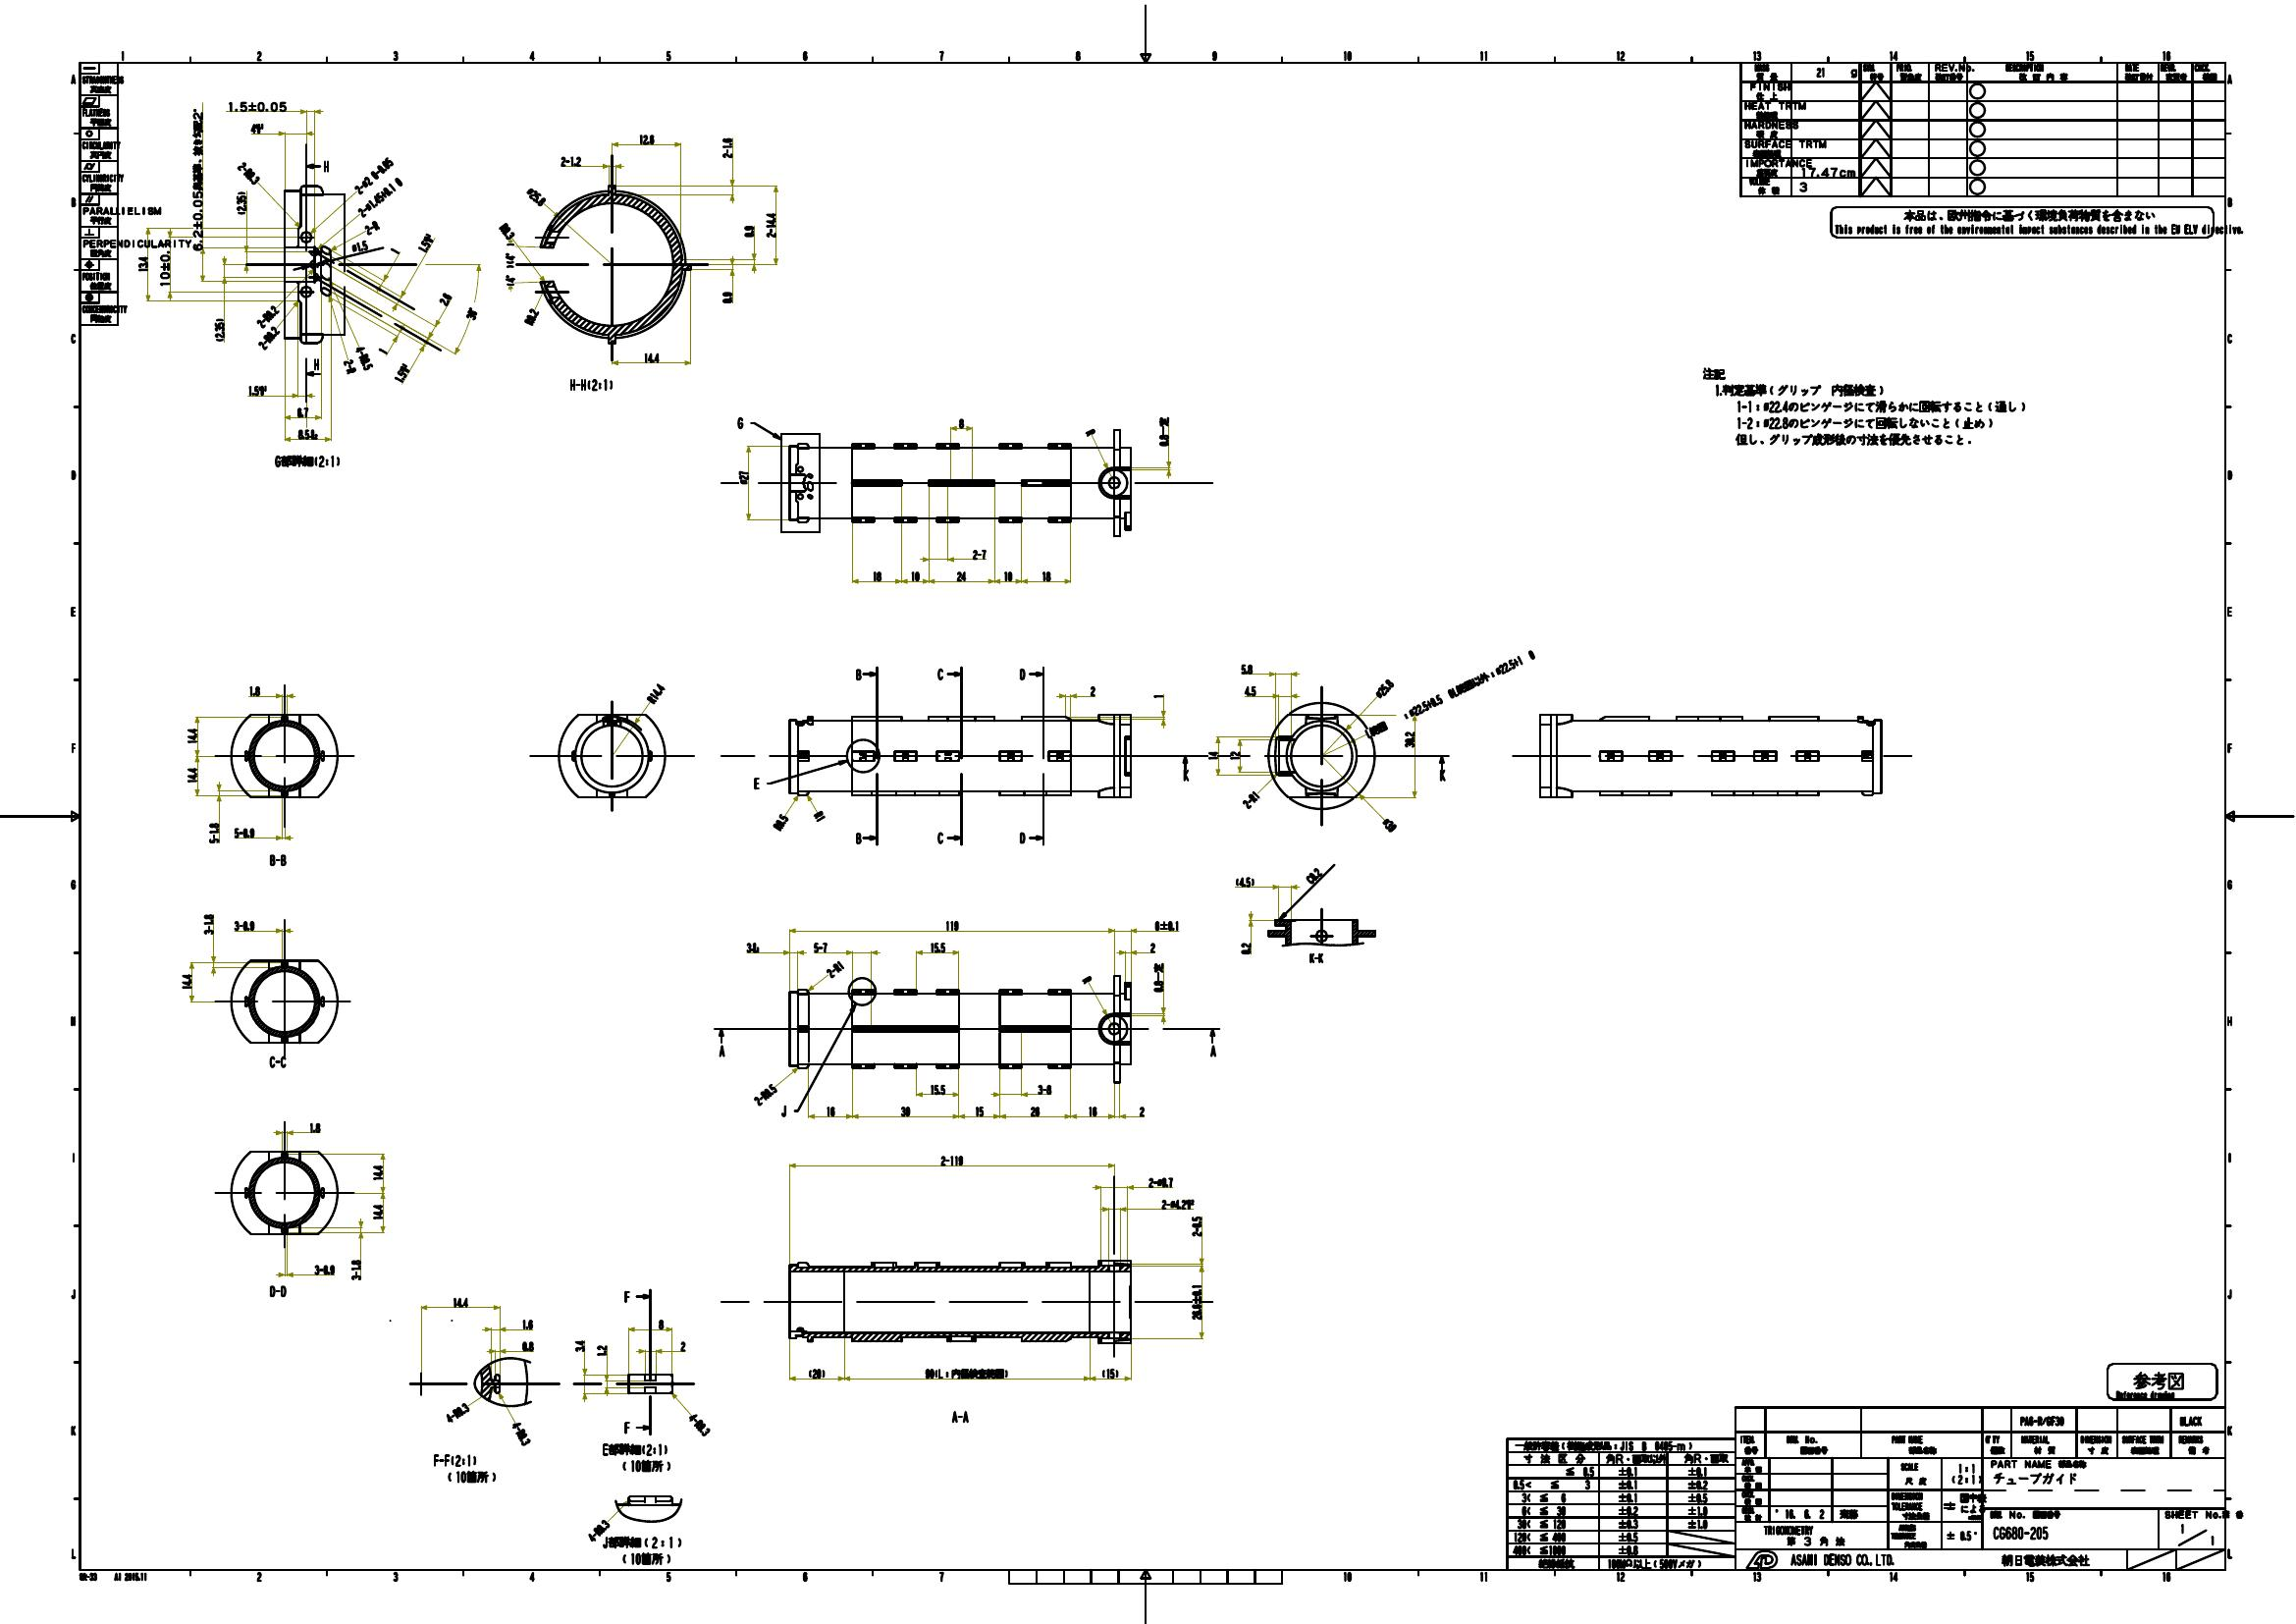anntotation_text: (1700, 366, 2027, 448), (1827, 204, 2245, 239), (2106, 1362, 2219, 1401), (272, 452, 341, 471), (603, 1534, 683, 1550), (601, 1441, 668, 1457), (620, 1457, 673, 1475), (566, 376, 613, 394), (446, 1468, 497, 1483), (77, 1571, 148, 1582), (432, 1452, 478, 1468), (617, 1552, 673, 1564), (267, 1281, 288, 1299), (265, 1053, 286, 1069), (269, 851, 286, 868), (950, 1410, 970, 1425), (1307, 951, 1325, 965), (1433, 766, 1448, 784), (935, 666, 945, 684), (750, 775, 762, 789), (935, 830, 945, 845), (852, 666, 863, 682), (1180, 768, 1191, 784), (715, 1042, 726, 1058), (311, 357, 321, 373), (320, 158, 330, 174), (622, 1288, 631, 1304), (854, 830, 863, 845), (622, 1420, 631, 1434), (1017, 830, 1026, 844), (1017, 666, 1026, 680), (1209, 1044, 1216, 1056)
dimension_text: (1354, 687, 1544, 700), (190, 105, 204, 253), (922, 1367, 1008, 1380), (227, 98, 288, 112), (350, 190, 408, 204), (156, 250, 172, 288), (350, 169, 397, 181), (504, 241, 516, 286), (1189, 1283, 1203, 1320), (1158, 1197, 1196, 1209), (1145, 1174, 1175, 1190), (750, 1086, 780, 1100), (1158, 415, 1170, 448), (213, 316, 227, 344), (234, 188, 248, 216), (764, 211, 778, 239), (1151, 961, 1163, 993), (230, 824, 256, 838), (206, 821, 221, 844), (523, 188, 546, 204), (938, 1153, 963, 1167), (1189, 1213, 1203, 1237), (508, 1427, 536, 1439), (313, 1262, 337, 1276), (235, 167, 264, 179), (720, 135, 734, 160), (1152, 919, 1179, 932), (444, 1406, 471, 1418), (1374, 682, 1397, 696), (297, 427, 320, 441), (246, 383, 269, 397), (390, 366, 413, 380), (1238, 793, 1263, 805), (350, 1257, 362, 1281), (232, 919, 256, 932), (769, 816, 791, 830), (1402, 729, 1416, 750), (350, 353, 378, 364), (560, 155, 581, 169), (1233, 875, 1256, 888), (202, 912, 214, 935), (645, 687, 668, 700), (415, 237, 437, 250), (736, 468, 750, 487), (450, 1295, 469, 1309), (371, 1162, 385, 1181), (184, 724, 199, 743), (341, 359, 360, 373), (135, 253, 149, 272), (495, 223, 515, 237), (687, 1418, 711, 1429), (371, 1200, 383, 1222), (1242, 682, 1258, 698), (246, 682, 262, 698), (248, 120, 264, 135), (1379, 817, 1397, 831), (179, 972, 193, 990), (824, 965, 847, 975), (1303, 868, 1323, 881), (1100, 1367, 1119, 1380), (806, 1367, 826, 1380), (641, 352, 661, 364), (971, 547, 987, 561), (1237, 940, 1253, 954), (929, 1083, 947, 1095), (1036, 1083, 1054, 1095), (929, 940, 947, 953), (186, 766, 199, 784), (351, 241, 369, 253), (638, 132, 655, 144), (522, 311, 541, 322), (822, 1104, 836, 1118), (464, 308, 478, 322), (439, 292, 453, 306), (973, 1102, 986, 1118), (745, 940, 761, 953), (295, 406, 311, 418), (364, 220, 379, 232), (720, 288, 733, 304), (307, 1121, 321, 1134), (870, 568, 882, 582), (954, 568, 966, 582), (1001, 568, 1014, 582), (1207, 749, 1219, 763), (1228, 749, 1240, 763), (898, 1104, 912, 1116), (1028, 1104, 1042, 1116), (945, 919, 959, 932), (520, 1318, 534, 1330), (741, 223, 754, 237), (815, 808, 826, 824), (1238, 663, 1254, 673), (812, 940, 827, 951), (736, 415, 745, 432), (1040, 569, 1052, 582), (910, 568, 921, 582), (1087, 1104, 1098, 1118), (522, 1339, 532, 1353), (573, 1339, 583, 1352), (1086, 425, 1094, 439), (657, 1316, 664, 1332), (596, 1345, 606, 1355), (378, 346, 388, 357), (1147, 940, 1156, 953), (1137, 1104, 1145, 1116), (1151, 692, 1165, 700), (957, 417, 964, 429), (1089, 684, 1096, 696), (678, 1341, 685, 1352), (388, 248, 399, 253)
object: (787, 974, 1133, 1084), (787, 427, 1133, 538), (787, 712, 1133, 800), (787, 1258, 1133, 1345), (1537, 714, 1883, 798), (538, 183, 692, 346), (1265, 700, 1375, 810), (283, 183, 346, 346), (228, 958, 339, 1046), (228, 1149, 339, 1236), (228, 714, 339, 800), (555, 714, 666, 800), (1265, 917, 1377, 947), (473, 1355, 534, 1408), (615, 1492, 683, 1524), (625, 1371, 675, 1396)
title_block: (1504, 1404, 2226, 1571), (1737, 60, 2227, 197), (77, 60, 119, 327)
